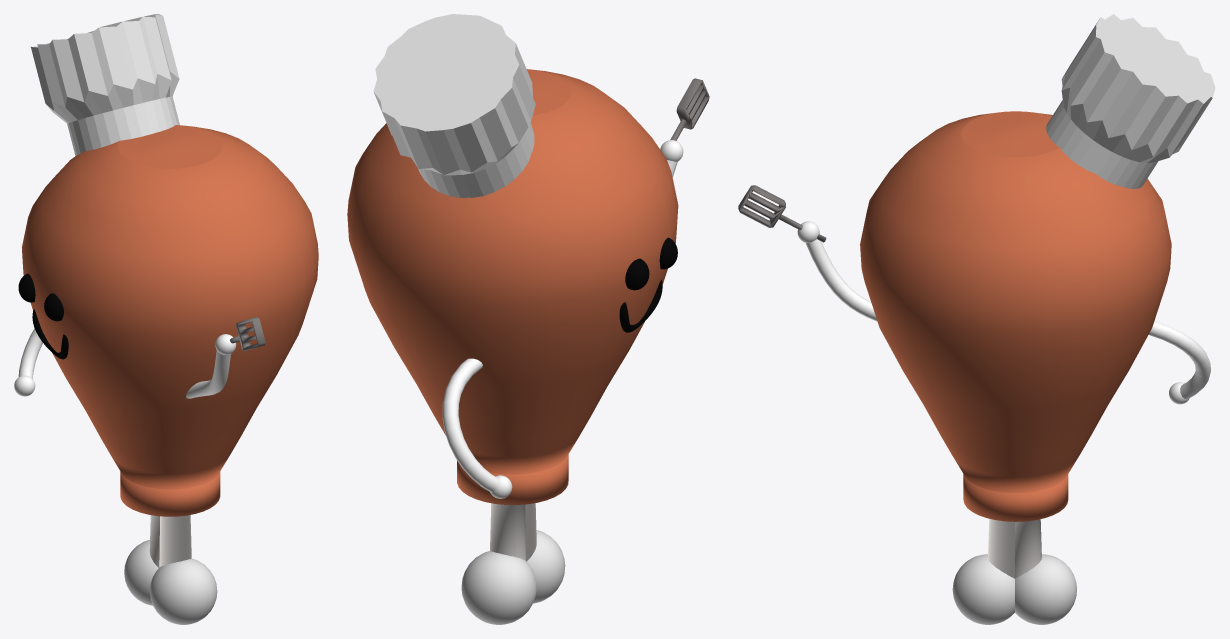
File: meat.glb
The picture shows the model from 3 angles, left to right: view 1: azimuth 30°, elevation 25°; view 2: azimuth 150°, elevation 25°; view 3: azimuth 270°, elevation 25°; orthographic projection. The views are drawn at different scales.
Parts seen in each view (by area): view 1: body, Circle.003, boneBottomL, bone, boneBottomR, 팔.001, 뒤집개.002, 팔 L.002, mouth.002, Sphere.003; view 2: body, Circle.003, boneBottomR, 팔 L.002, bone, boneBottomL, 뒤집개.002, Sphere.001, mouth.002; view 3: body, Circle.003, boneBottomL, boneBottomR, bone, 팔 L.002, 팔.001, 뒤집개.002.
Boxes of the visible parts, x1,y1,x2,y2 form: body: (22, 125, 318, 516); Circle.003: (31, 14, 179, 155); boneBottomL: (150, 558, 217, 624); bone: (149, 515, 191, 567); boneBottomR: (124, 540, 158, 605); 팔.001: (186, 350, 230, 398); 뒤집개.002: (230, 317, 265, 351); 팔 L.002: (18, 328, 42, 378); mouth.002: (32, 309, 68, 359); Sphere.003: (44, 293, 63, 321); body: (347, 69, 678, 504); Circle.003: (373, 14, 535, 197); boneBottomR: (461, 551, 536, 624); 팔 L.002: (442, 358, 498, 492); bone: (490, 503, 536, 561); boneBottomL: (527, 530, 565, 603); 뒤집개.002: (670, 78, 709, 140); Sphere.001: (625, 258, 649, 290); mouth.002: (619, 279, 662, 332); body: (860, 111, 1171, 521); Circle.003: (1046, 14, 1215, 188); boneBottomL: (952, 554, 1014, 624); boneBottomR: (1015, 554, 1076, 624); bone: (988, 519, 1041, 578); 팔 L.002: (1148, 321, 1210, 399); 팔.001: (805, 239, 877, 321); 뒤집개.002: (738, 185, 826, 242).
Size of the model in its own units: 1.04 by 2.12 by 1.55.
